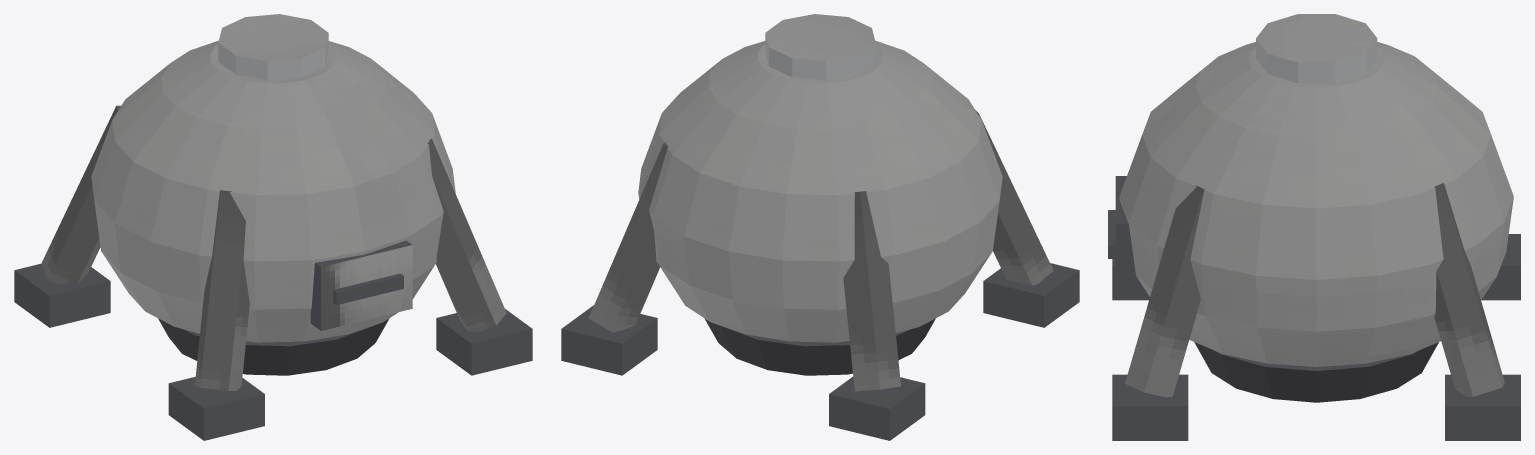
File: Building_TransportPod.glb
3 views of the same model, side by side, from view 1: azimuth 30°, elevation 25°; view 2: azimuth 150°, elevation 25°; view 3: azimuth 270°, elevation 25° (orthographic). The views are drawn at different scales.
Parts seen in each view (by area): view 1: TransportPod; view 2: TransportPod; view 3: TransportPod.
Boxes of the visible parts, x1,y1,x2,y2 form: TransportPod: (14, 14, 532, 440); TransportPod: (561, 14, 1079, 440); TransportPod: (1108, 14, 1520, 440).
Bounding box in the file's own units: 1.08 × 0.92 × 1.09.
Materials: 1 (1 with a texture image).
